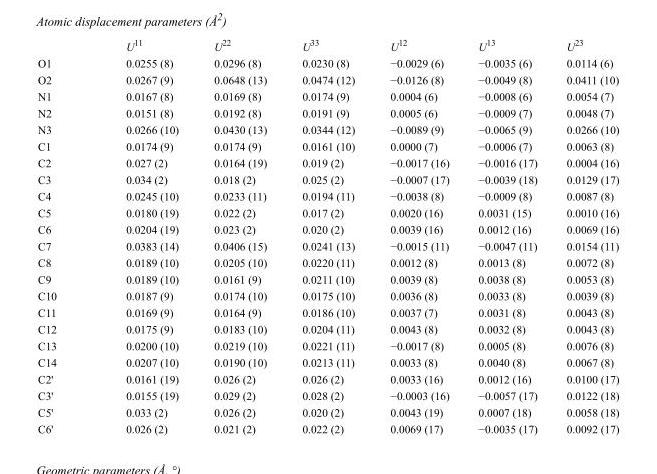table: (37, 37, 618, 434)
table column: (90, 37, 195, 434), (371, 37, 463, 434), (195, 37, 283, 434), (283, 37, 371, 434), (463, 37, 551, 434), (551, 37, 618, 434), (37, 37, 90, 434)
table column header: (37, 37, 618, 54)
table row: (37, 37, 618, 54), (37, 54, 618, 71), (37, 87, 618, 104), (37, 120, 618, 137), (37, 137, 618, 154), (37, 170, 618, 187), (37, 187, 618, 204), (37, 220, 618, 237), (37, 253, 618, 270), (37, 270, 618, 287), (37, 303, 618, 320), (37, 320, 618, 337), (37, 353, 618, 370), (37, 386, 618, 403), (37, 403, 618, 420), (37, 71, 618, 87), (37, 104, 618, 120), (37, 154, 618, 170), (37, 204, 618, 220), (37, 237, 618, 253), (37, 287, 618, 303), (37, 337, 618, 353), (37, 370, 618, 386), (37, 420, 618, 434)
